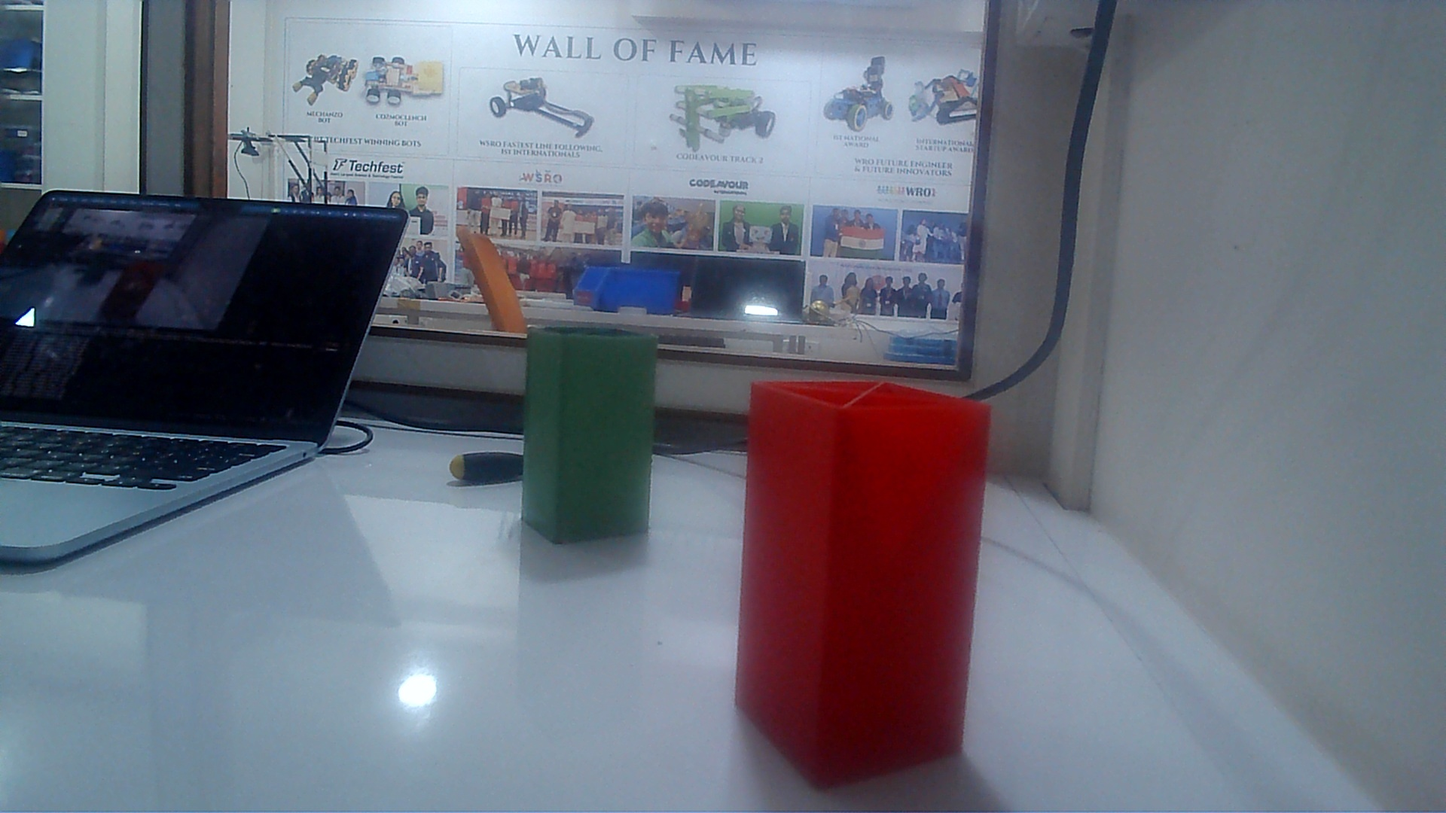green: (511, 330, 660, 540)
